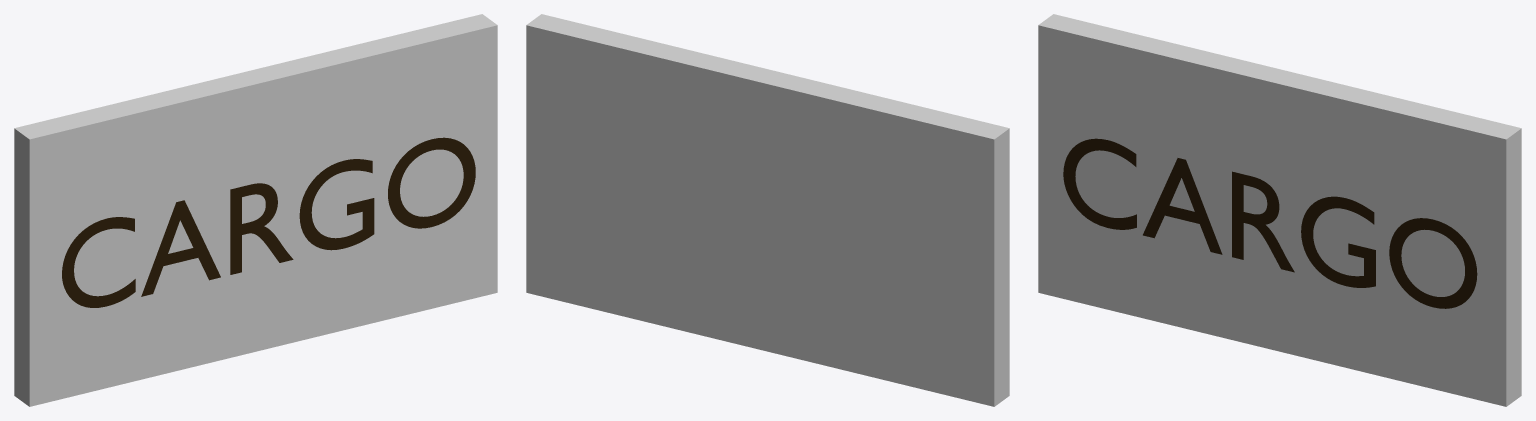
Rendered from sell_cargo.gltf.
3 renders of one model, left to right at view 1: azimuth 30°, elevation 25°; view 2: azimuth 150°, elevation 25°; view 3: azimuth 330°, elevation 25°, orthographic.
Visible parts, largest first — view 1: Cube.013, Text.010; view 2: Cube.013; view 3: Cube.013, Text.010.
Boxes of the visible parts, x1,y1,x2,y2 form: Cube.013: (14, 14, 497, 406); Text.010: (62, 137, 475, 307); Cube.013: (526, 14, 1009, 406); Cube.013: (1038, 14, 1521, 406); Text.010: (1063, 138, 1477, 308).
Bounding box in the file's own units: 0.4209 × 0.2298 × 0.0295.
